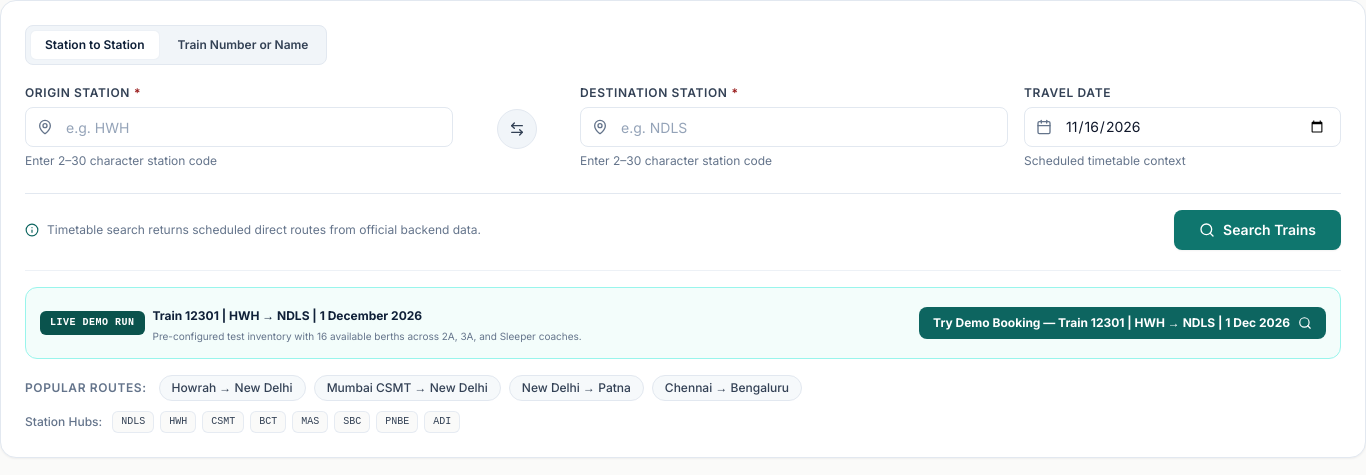
it: TrainSearchForm Component › validates minimum 2 characters when submitting direct train query
The image size is (1366, 475).
Switch to query mode
Click the button "Train Number or Name" at (243, 45), box x1=164 y1=31 x2=322 y2=59
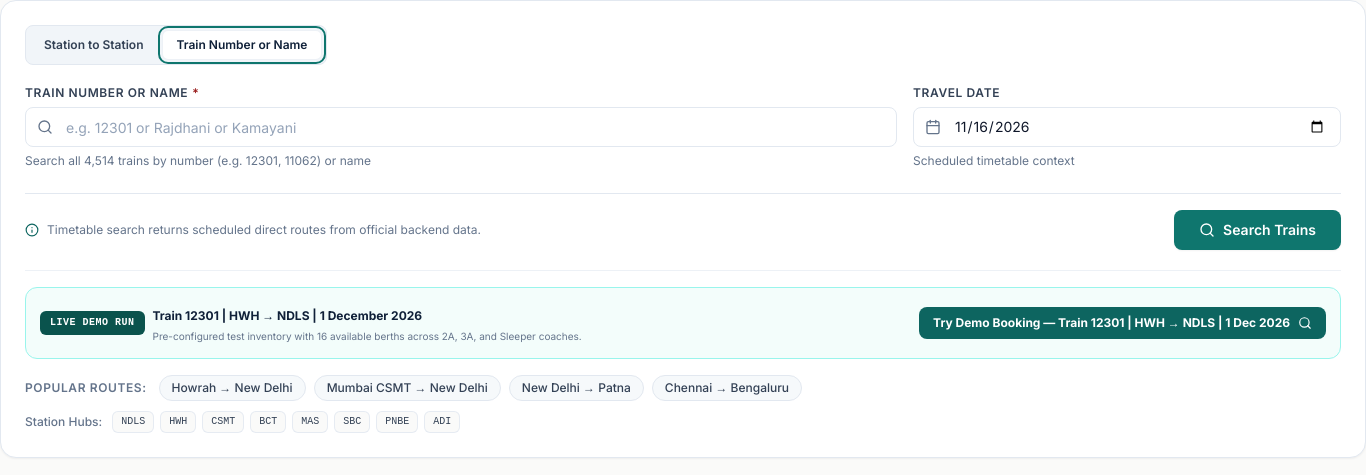
Type "1" into the field labelled "Train Number or Name*" at (461, 127), box x1=25 y1=107 x2=897 y2=147
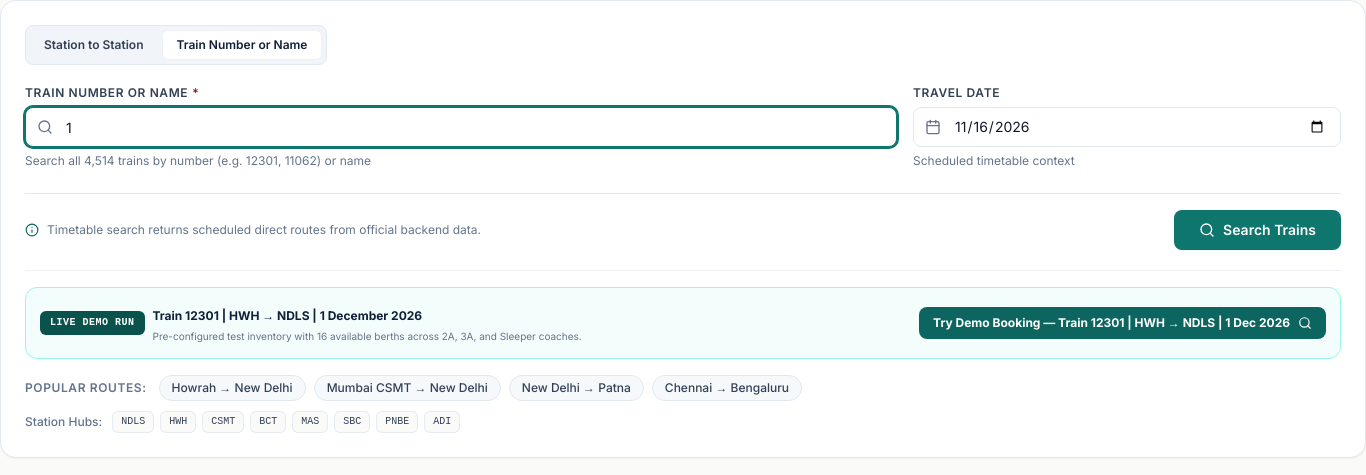
Click the button "Search Trains" at (1258, 230), box x1=1174 y1=210 x2=1341 y2=250
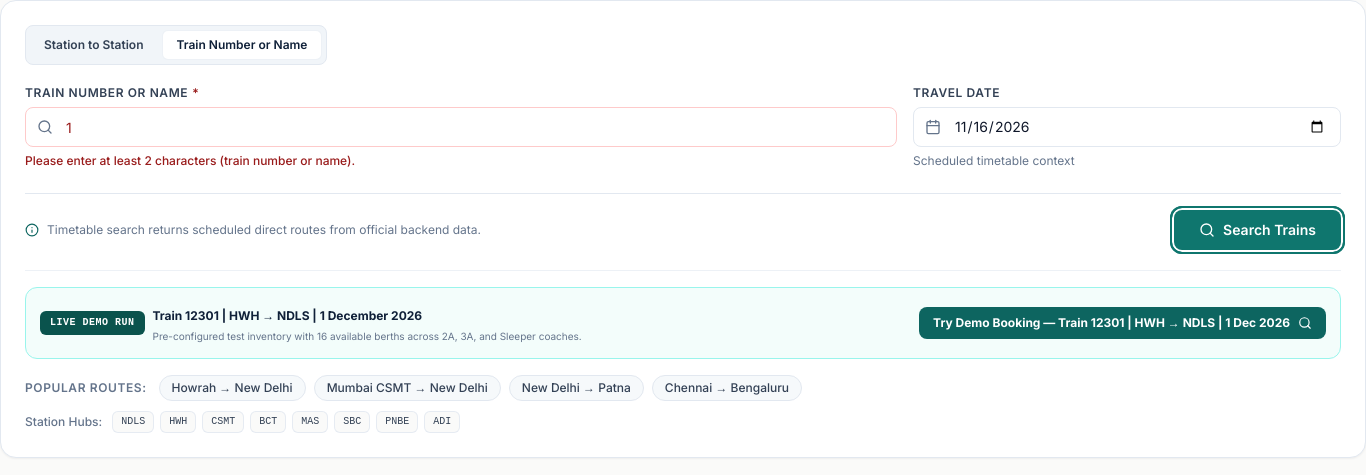
Result: the text "Please enter at least 2 characters (train number or name)." is shown at x1=25 y1=153 x2=355 y2=168
